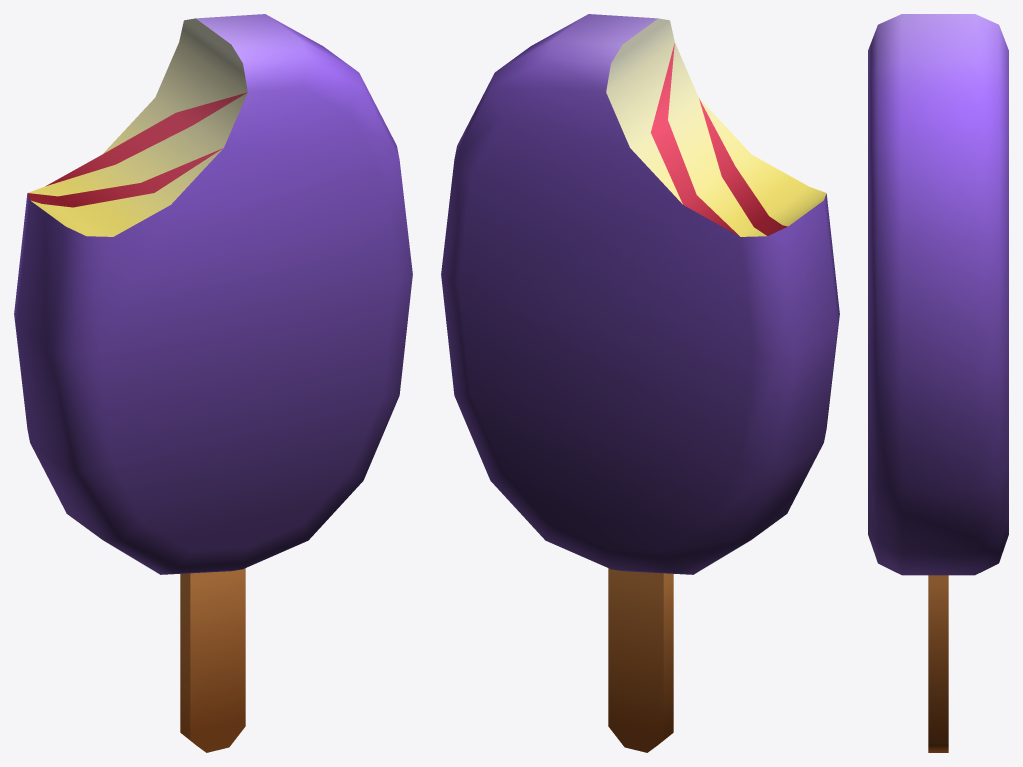
File: m_BigPopsicle10.fbx
3 views of the same model, side by side, from view 1: azimuth 30°, elevation 25°; view 2: azimuth 150°, elevation 25°; view 3: azimuth 270°, elevation 25° (orthographic). The views are drawn at different scales.
Visible parts, largest first — view 1: m_BigPopsicle10; view 2: m_BigPopsicle10; view 3: m_BigPopsicle10.
Boxes of the visible parts, left/top/right/bottom form: m_BigPopsicle10: left=14, top=14, right=412, bottom=752; m_BigPopsicle10: left=441, top=14, right=839, bottom=752; m_BigPopsicle10: left=868, top=14, right=1008, bottom=752.
Size of the model in its own units: 12.05 by 22.96 by 4.
